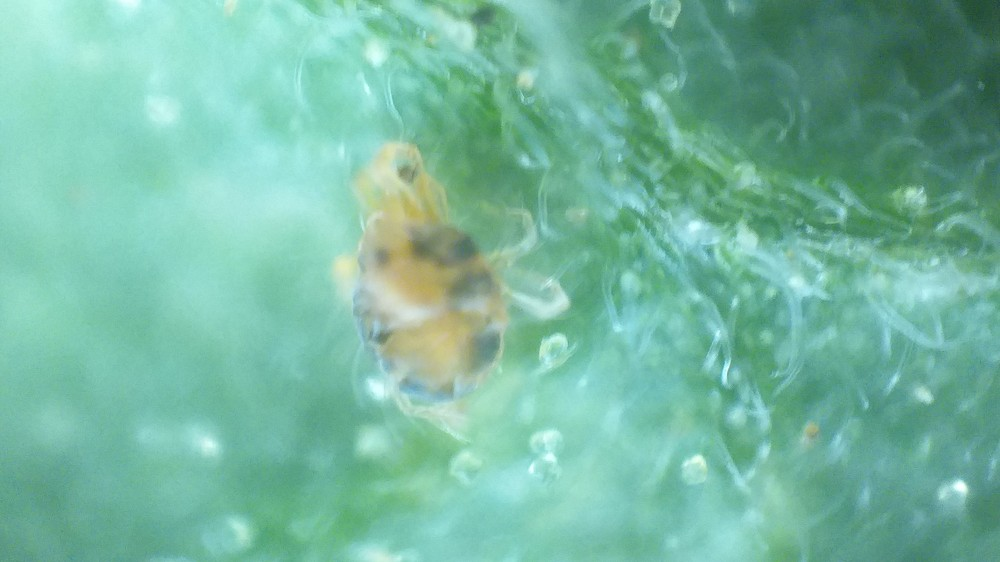Aracnido Rojo: (294, 128, 582, 458)
